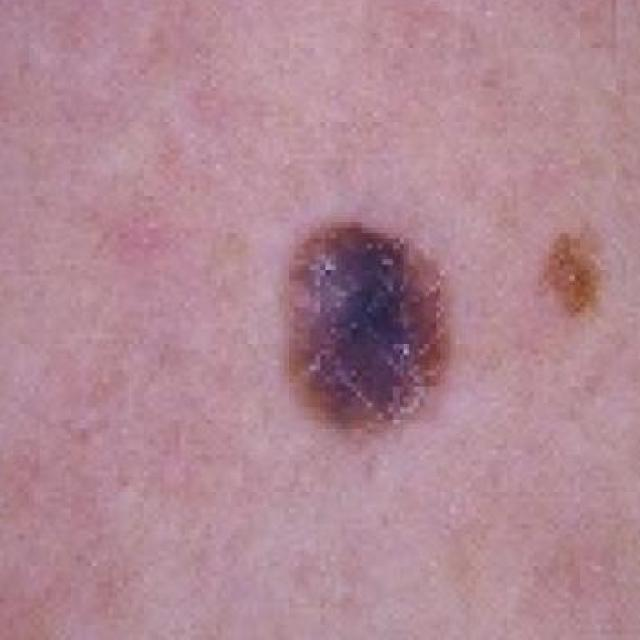BKL: (225, 0, 639, 499)
